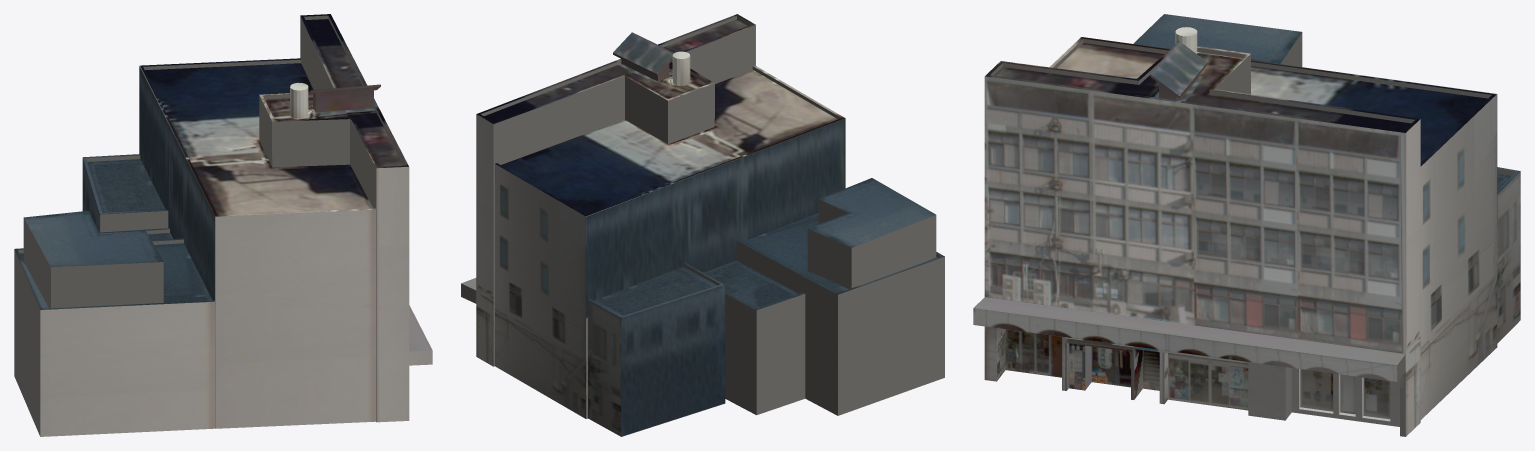
File: bldg_cae75eca_6280_48f8_837b_65fc11b6a772.fbx
3 views of the same model, side by side, from view 1: azimuth 30°, elevation 25°; view 2: azimuth 150°, elevation 25°; view 3: azimuth 270°, elevation 25° (orthographic). The views are drawn at different scales.
Visible parts, largest first — view 1: bldg_cae75eca_6280_48f8_837b_65fc11b6a772; view 2: bldg_cae75eca_6280_48f8_837b_65fc11b6a772; view 3: bldg_cae75eca_6280_48f8_837b_65fc11b6a772.
Boxes of the visible parts, x1,y1,x2,y2 form: bldg_cae75eca_6280_48f8_837b_65fc11b6a772: (14, 14, 432, 436); bldg_cae75eca_6280_48f8_837b_65fc11b6a772: (461, 14, 944, 436); bldg_cae75eca_6280_48f8_837b_65fc11b6a772: (973, 14, 1520, 436).
Size of the model in its own units: 3042 by 1974 by 2940.
